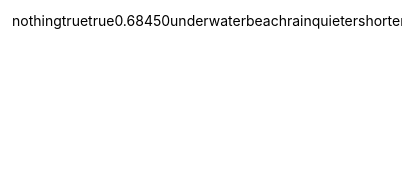
Test: PlaybackProvider › starts a new session when a different sound is opened
The width and height of the screenshot is (414, 172).
Click the element with test id "open-underwater" at coordinates (208, 20), box left=170, top=12, right=246, bottom=29
Wait 1000 ms
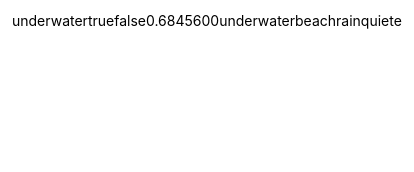
Click the element with test id "open-beach" at coordinates (316, 20), box left=295, top=12, right=336, bottom=29
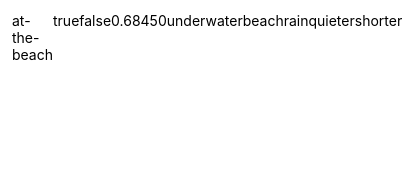
Now the text with test id "sound" reads "at-the-beach", box left=12, top=12, right=53, bottom=63
